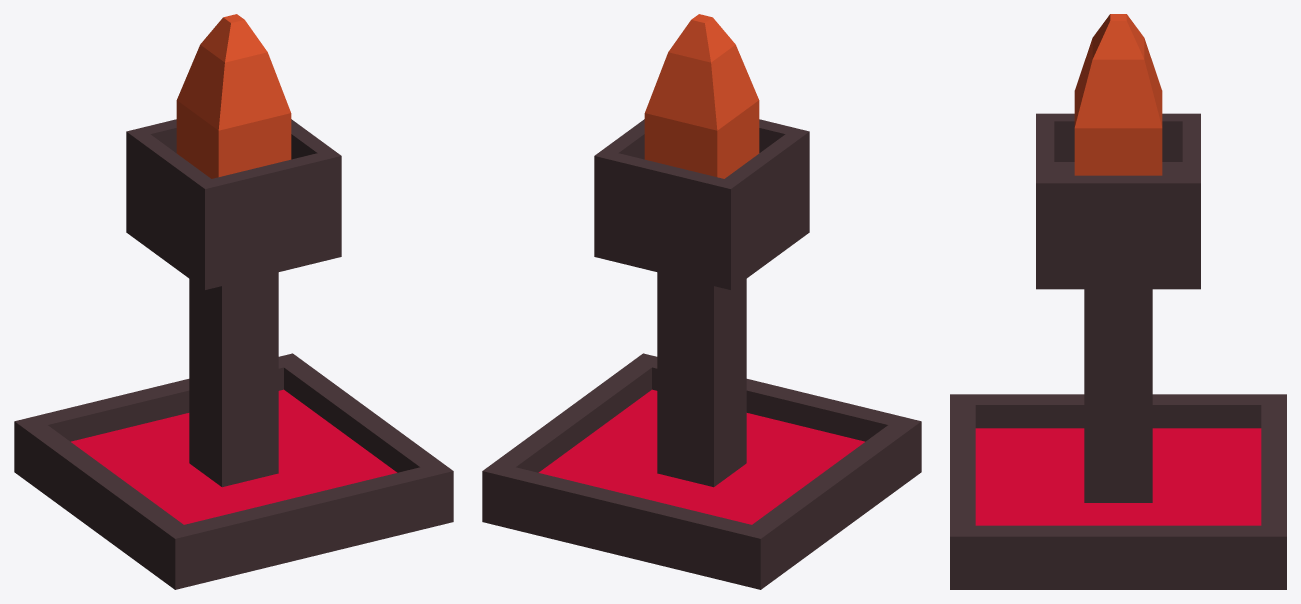
Rendered from Chechpoint on.fbx.
The picture shows the model from 3 angles, left to right: view 1: azimuth 30°, elevation 25°; view 2: azimuth 150°, elevation 25°; view 3: azimuth 270°, elevation 25°; orthographic projection. The views are drawn at different scales.
Visible parts, largest first — view 1: Cube; view 2: Cube; view 3: Cube.
Boxes of the visible parts, left/top/right/bottom form: Cube: left=14, top=14, right=453, bottom=589; Cube: left=482, top=14, right=921, bottom=589; Cube: left=950, top=14, right=1286, bottom=589.
Bounding box in the file's own units: 738 × 1213 × 738.
